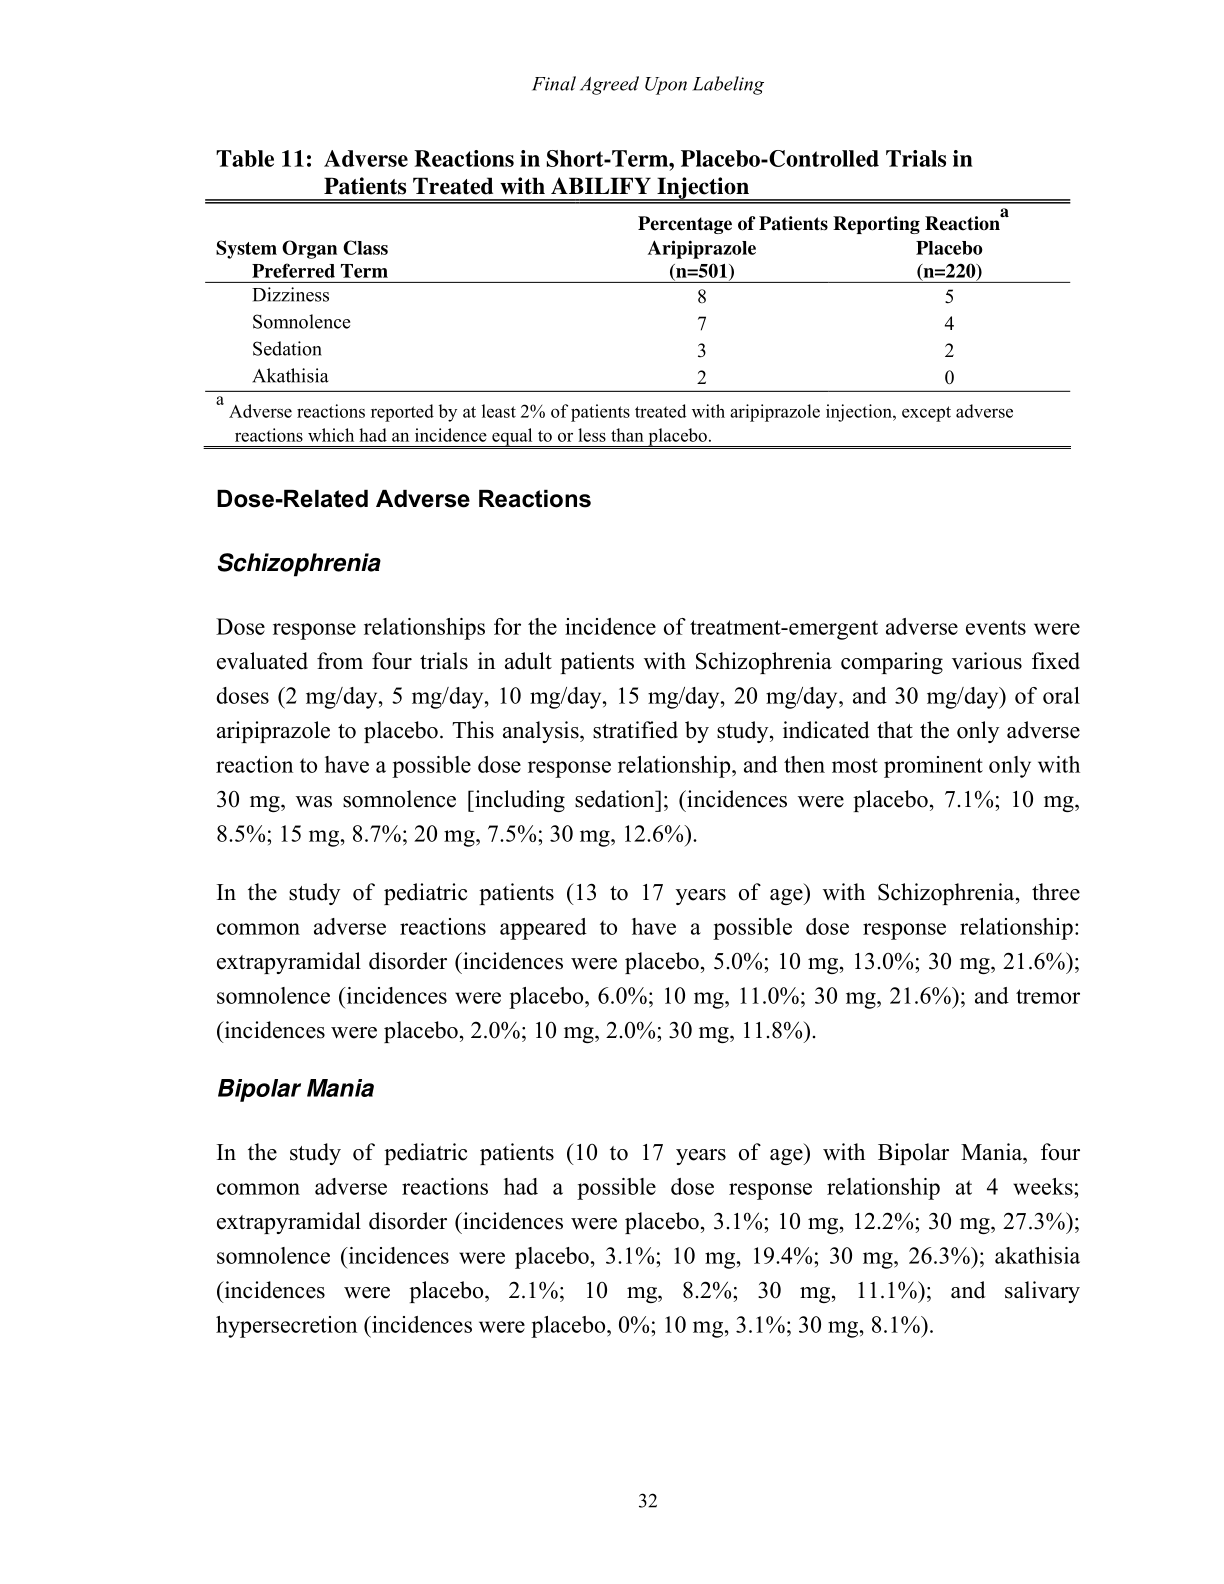partial_lined_merged_cells: (203, 198, 1071, 393)
